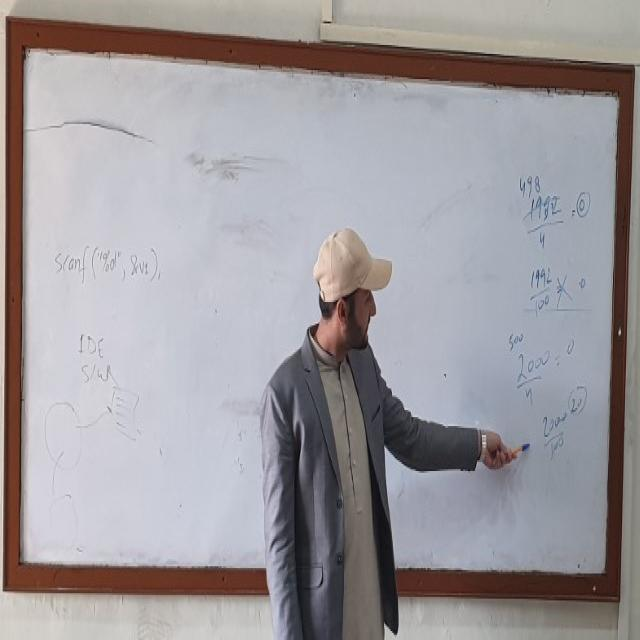Instructor: (268, 209, 411, 640)
White-board: (12, 27, 624, 590)
